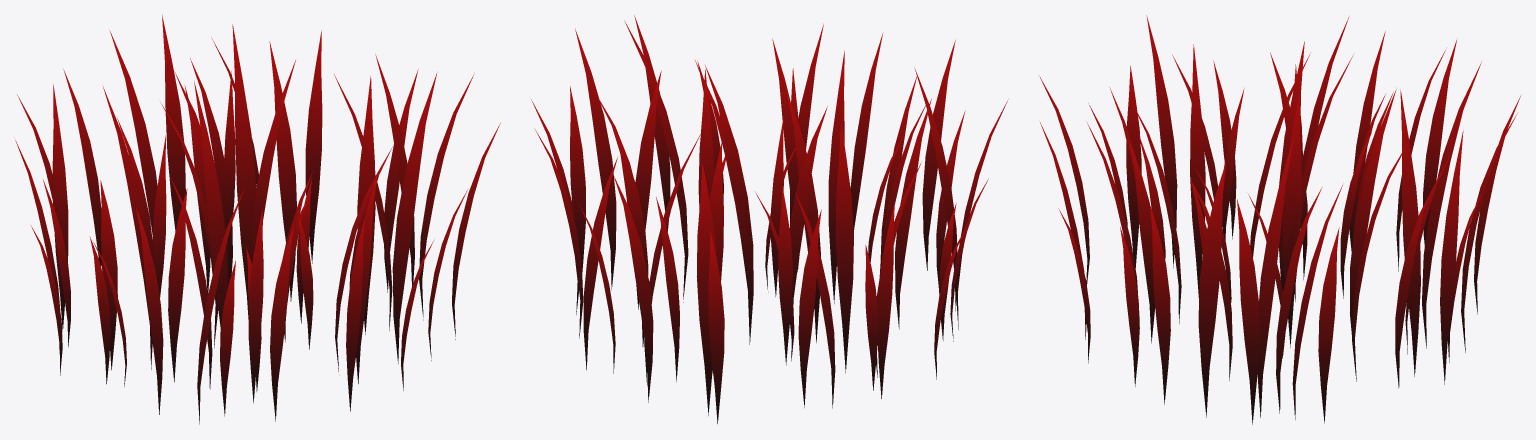
The model's file is herbe.fbx.
3 renders of one model, left to right at view 1: azimuth 30°, elevation 25°; view 2: azimuth 150°, elevation 25°; view 3: azimuth 270°, elevation 25°, orthographic. The views are drawn at different scales.
Visible parts, largest first — view 1: herbe; view 2: herbe; view 3: herbe.
Boxes of the visible parts, x1,y1,x2,y2 form: herbe: [15, 15, 500, 424]; herbe: [531, 15, 1008, 423]; herbe: [1039, 15, 1520, 424].
Bounding box in the file's own units: 3.21 × 2.3 × 3.16.
